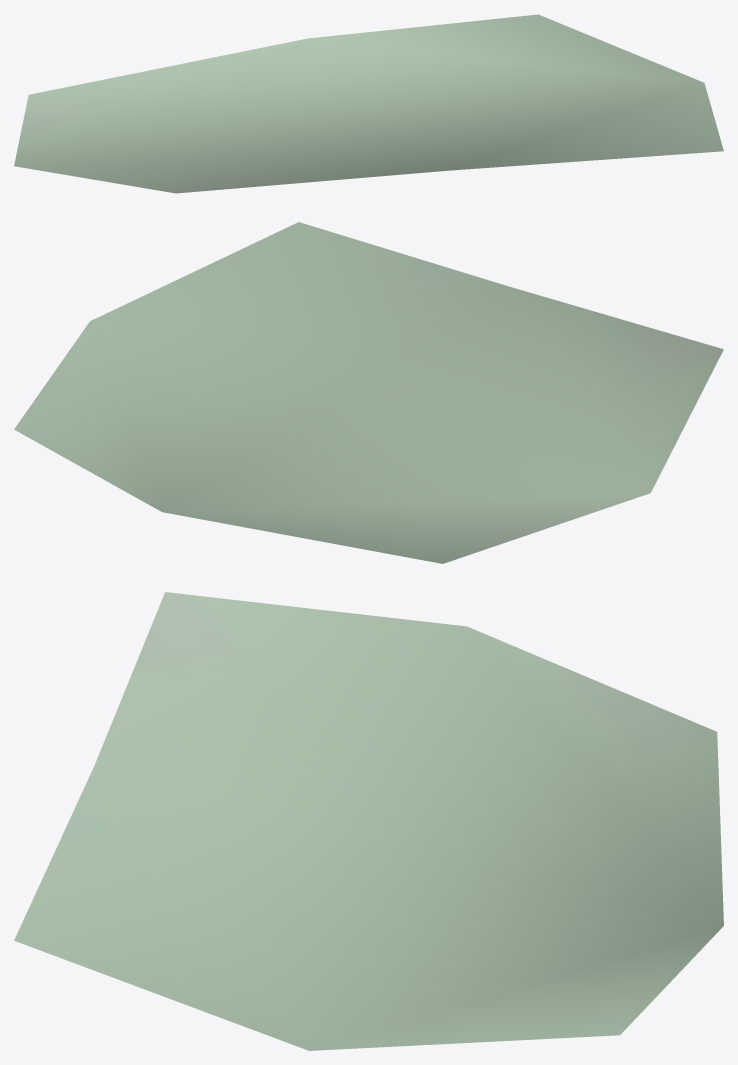
File: TROLLHOLE02_HOLECAP197.fbx
3 renders of one model, top to bottom at view 1: azimuth 30°, elevation 25°; view 2: azimuth 150°, elevation 25°; view 3: azimuth 270°, elevation 25°, orthographic. The views are drawn at different scales.
Parts seen in each view (by area): view 1: TROLLHOLE02_HOLECAP197; view 2: TROLLHOLE02_HOLECAP197; view 3: TROLLHOLE02_HOLECAP197.
Part boxes in pixels (<box>): TROLLHOLE02_HOLECAP197: <box>14,14,723,193</box>; TROLLHOLE02_HOLECAP197: <box>14,222,723,563</box>; TROLLHOLE02_HOLECAP197: <box>14,592,723,1050</box>.
Size of the model in its own units: 14203 by 1947 by 10854.
Materials: 1 (1 with a texture image).
